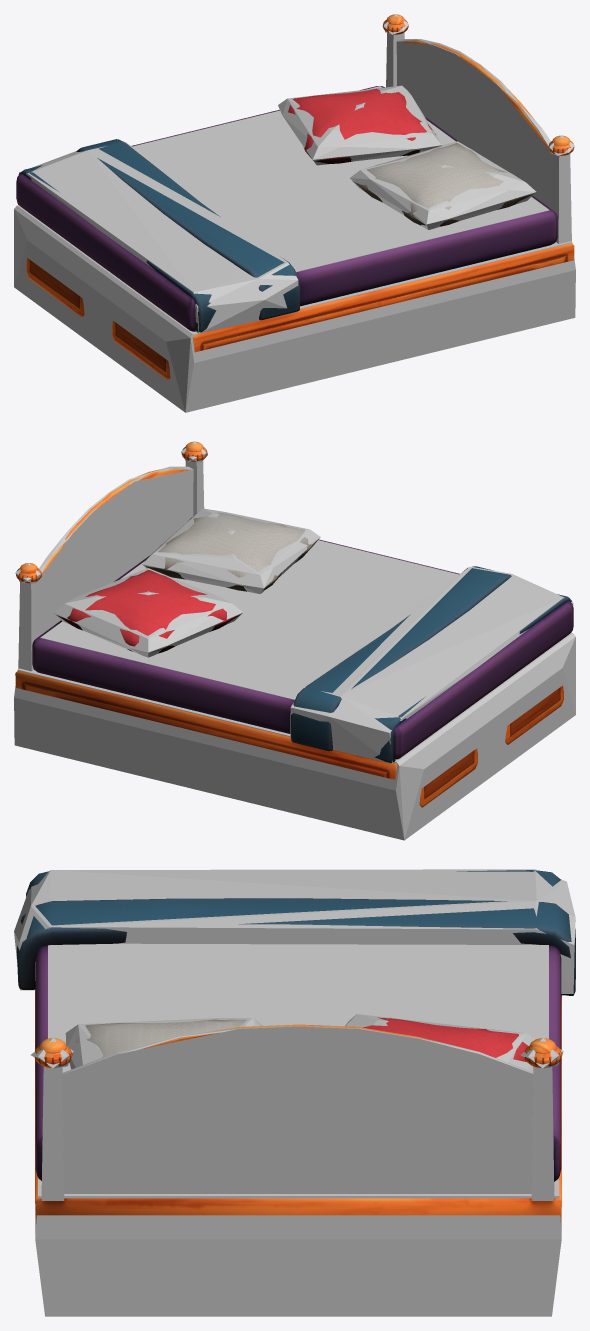
File: SM_Bed02.fbx
The picture shows the model from 3 angles, top to bottom: view 1: azimuth 30°, elevation 25°; view 2: azimuth 150°, elevation 25°; view 3: azimuth 270°, elevation 25°; orthographic projection. The views are drawn at different scales.
Visible parts, largest first — view 1: SM_Bed02_ConvexHulls, SM_Bed02; view 2: SM_Bed02_ConvexHulls, SM_Bed02; view 3: SM_Bed02_ConvexHulls, SM_Bed02.
Part boxes in pixels (left/top/right/bottom): SM_Bed02_ConvexHulls: left=14, top=14, right=575, bottom=412; SM_Bed02: left=16, top=14, right=574, bottom=379; SM_Bed02_ConvexHulls: left=14, top=441, right=575, bottom=840; SM_Bed02: left=15, top=441, right=573, bottom=807; SM_Bed02_ConvexHulls: left=14, top=869, right=575, bottom=1316; SM_Bed02: left=17, top=870, right=575, bottom=1223.
Bounding box in the file's own units: 211 × 176 × 98.42.
2 materials, 1 textured.
